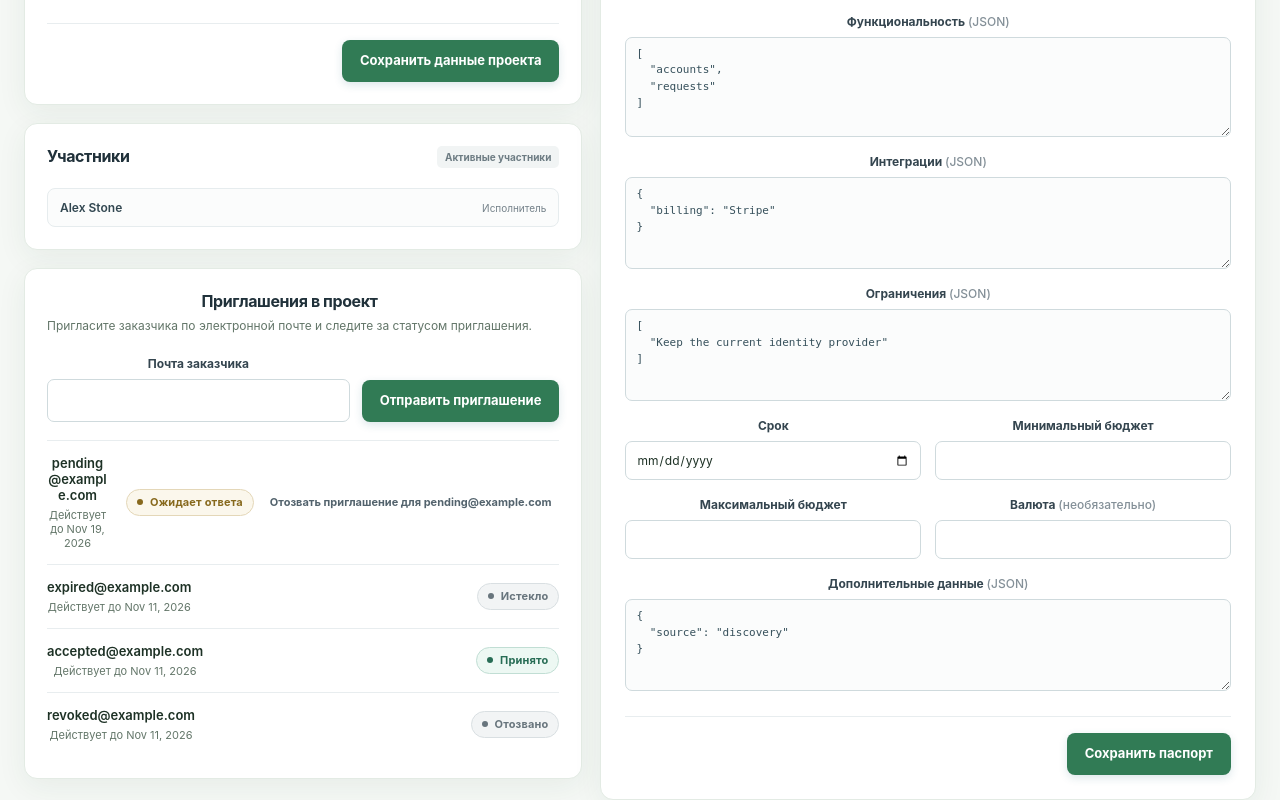
executor manages invitation status and can recover from a server validation error
The width and height of the screenshot is (1280, 800).
(page scrolled)
Expected: the heading "Приглашения в проект" is shown, [202,291,377,311]
Expected: the text "pending@example.com" is shown, [47,455,108,503]
Type "new@example.com" into the field labelled "Почта заказчика". click: (198, 400)
box: [47,379,350,422]
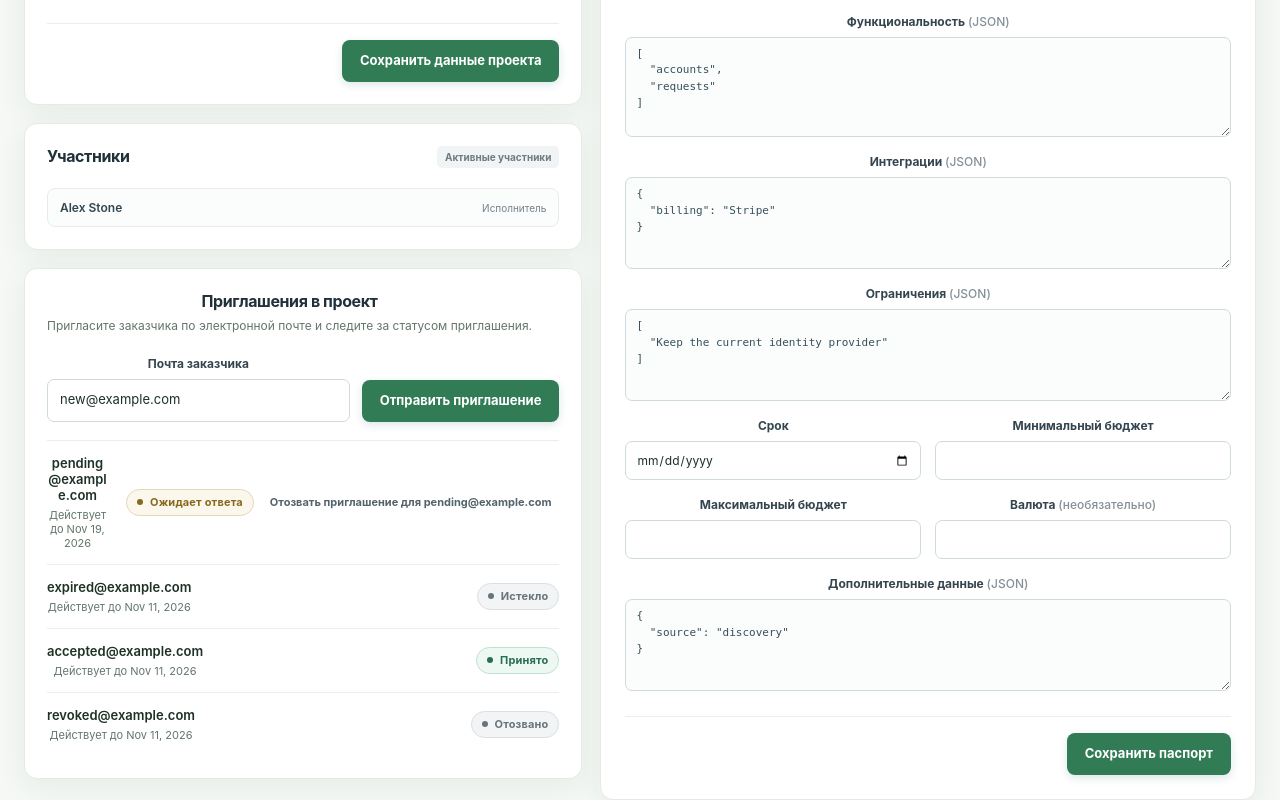
Click the button "Отправить приглашение". click: (460, 401)
box: [362,380,559,422]
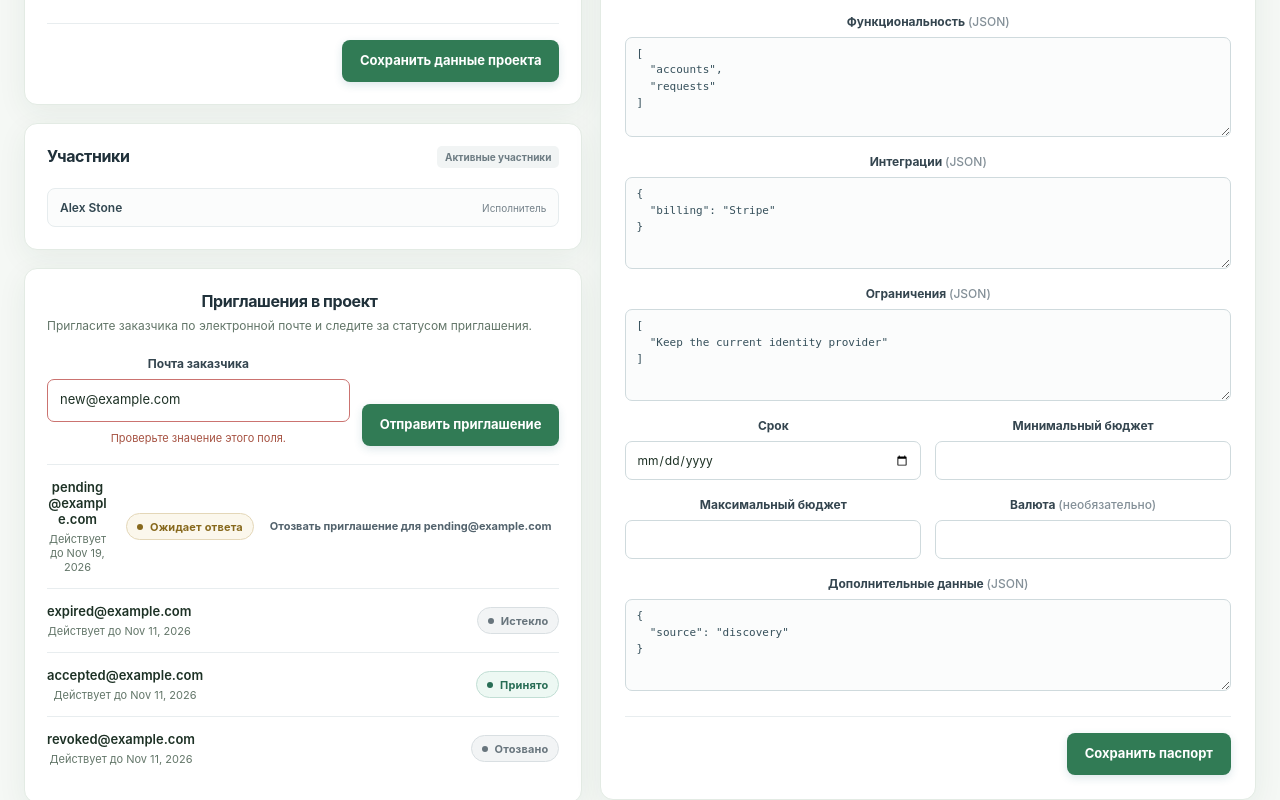
Expected: the text "Проверьте значение этого поля." is shown, [111,431,286,445]
Click the button "Отправить приглашение". click: (460, 425)
box: [362,404,559,446]
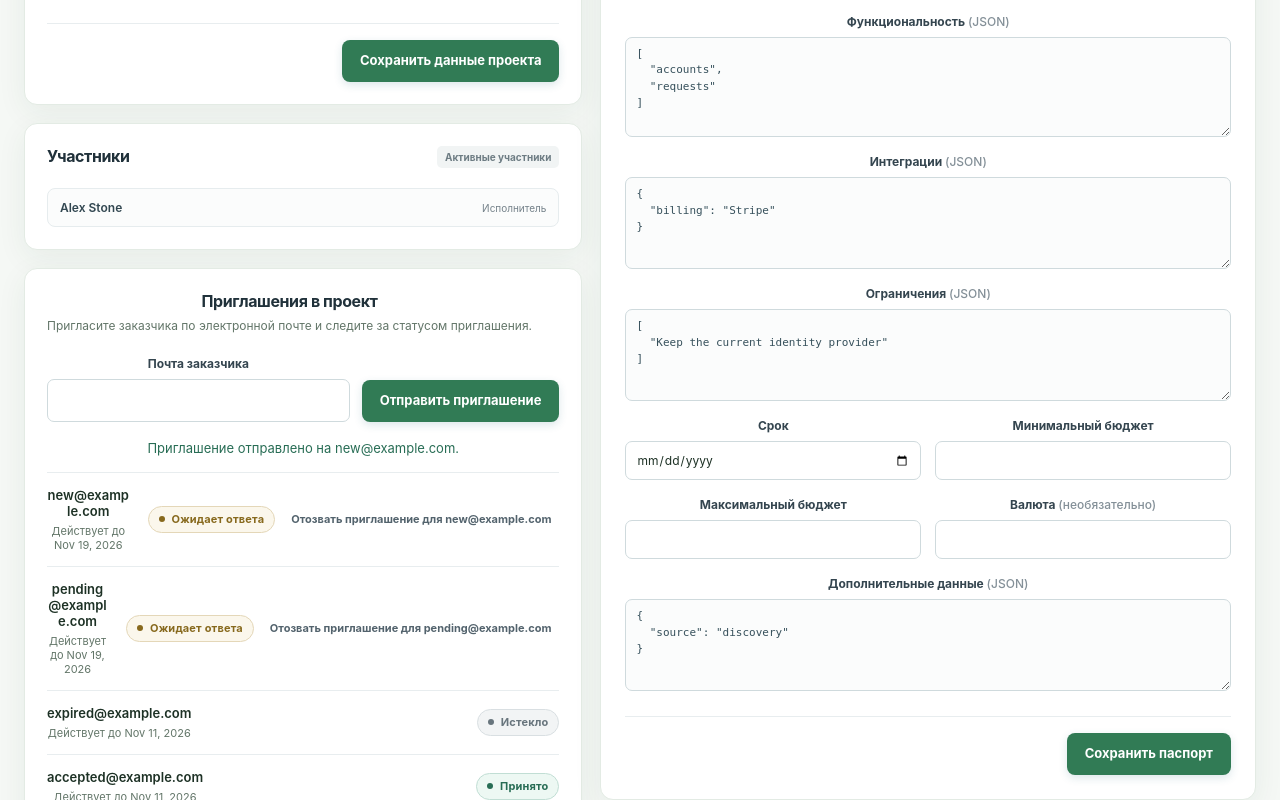
Expected: the text "Приглашение отправлено на new@example.com." is shown, [147,440,459,456]
Expected: the text "new@example.com" is shown, [47,487,130,519]
Click the button "Отозвать приглашение для pending@example.com". click: (411, 628)
box: [262,612,559,644]
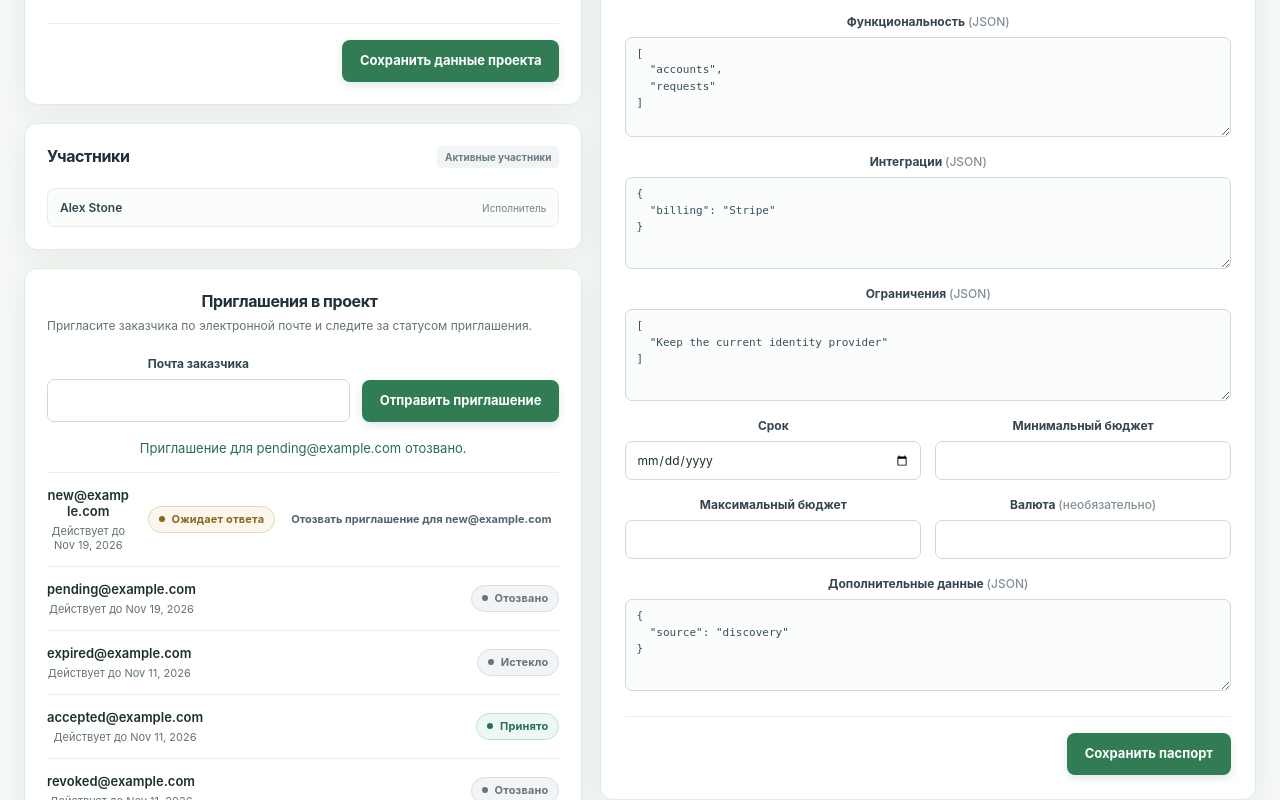
Expected: the text "Приглашение для pending@example.com отозвано." is shown, [140,440,467,456]
